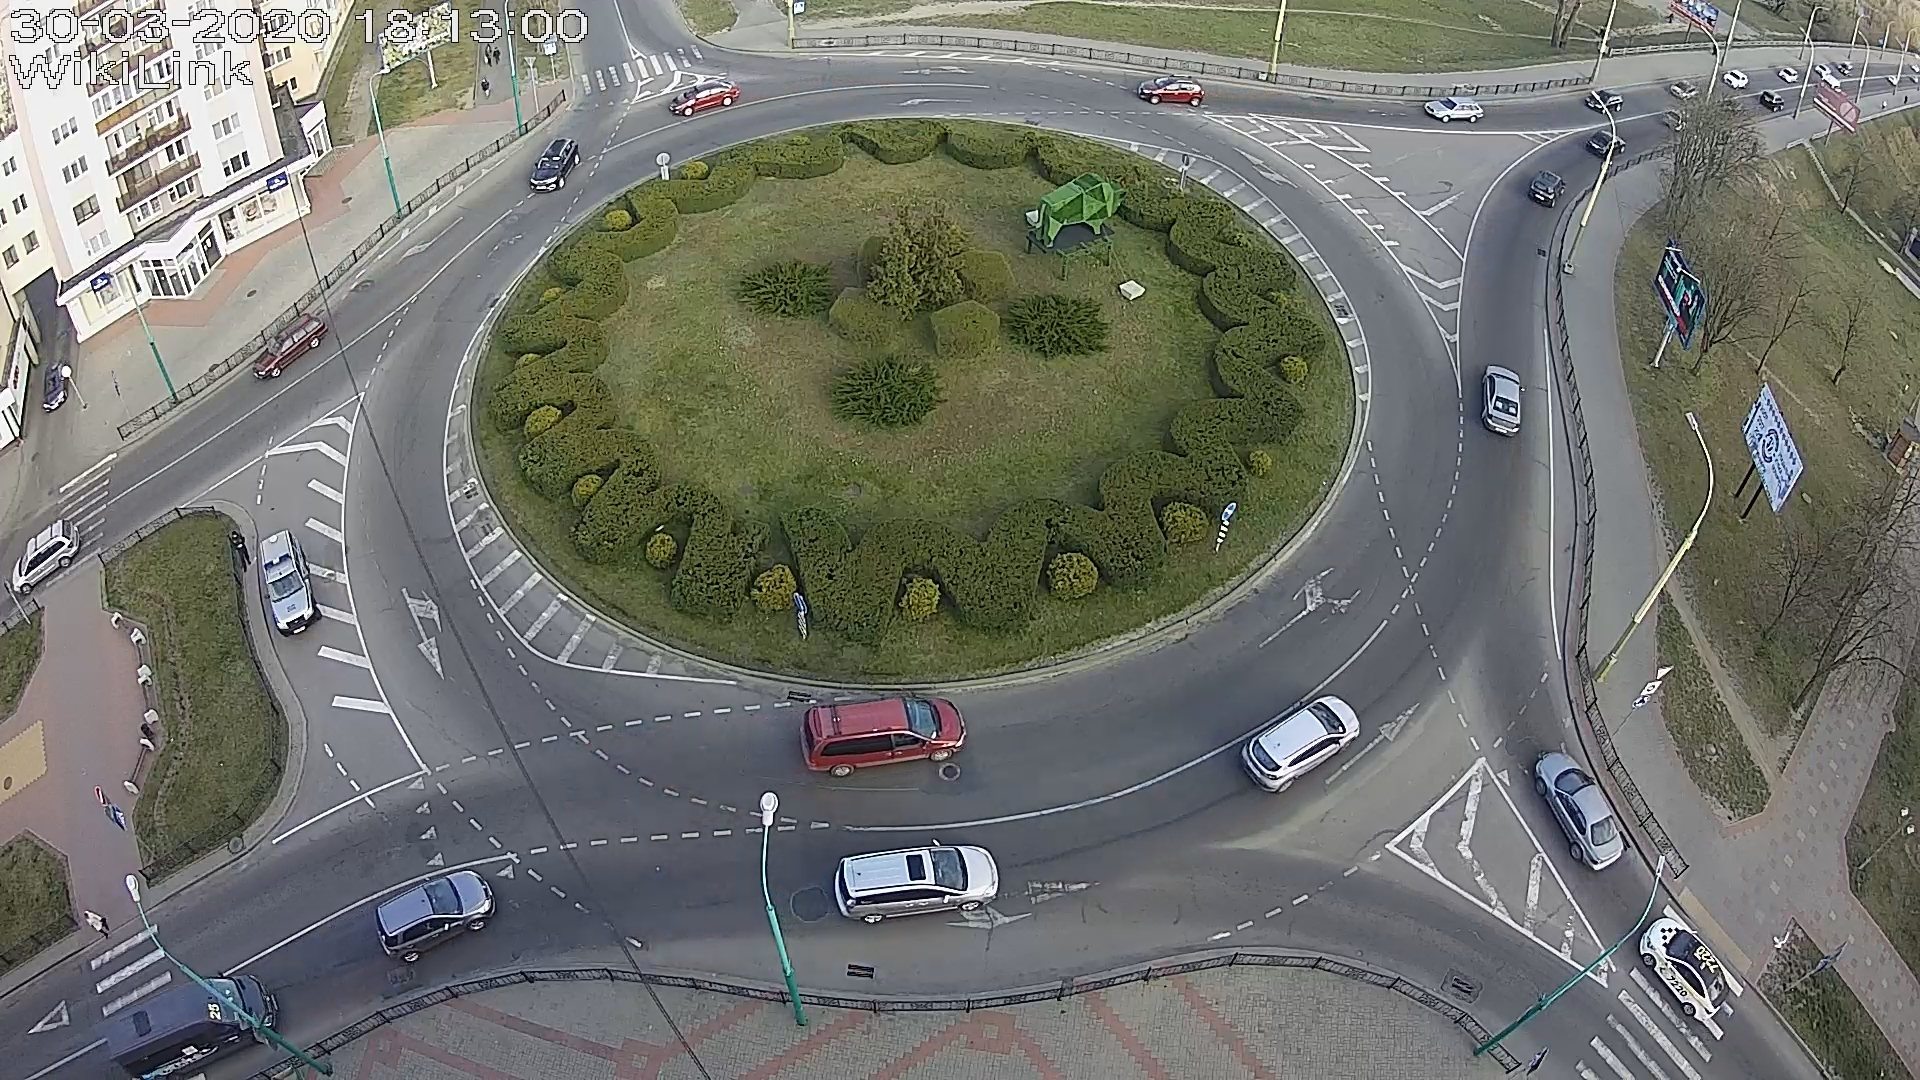car: (100, 971, 280, 1080), (833, 837, 1000, 924), (799, 694, 967, 778), (1240, 695, 1361, 794), (375, 870, 496, 964), (1534, 752, 1625, 872), (1639, 916, 1731, 1023), (258, 529, 322, 637), (12, 518, 80, 595), (252, 313, 328, 378), (1481, 365, 1524, 438), (529, 138, 582, 194), (669, 79, 740, 117), (1137, 74, 1205, 107), (1423, 96, 1485, 123), (1528, 170, 1567, 208), (1586, 129, 1626, 160), (1585, 88, 1625, 113)
